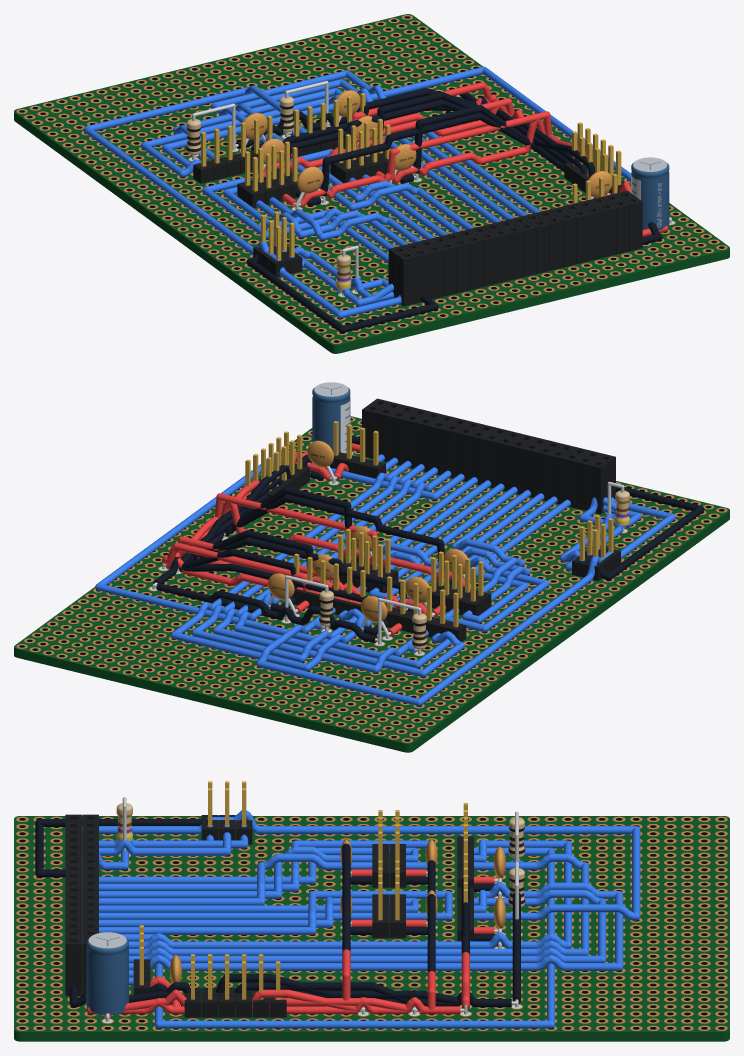
Rendered from perfboard-3d.glb.
3 views of the same model, one above another, from view 1: azimuth 30°, elevation 25°; view 2: azimuth 150°, elevation 25°; view 3: azimuth 270°, elevation 25° (orthographic). The views are drawn at different scales.
Visible parts, largest first — view 1: Board, Wires, J1 Female Header (2.54 mm) (2 × 18) MEGA: 1 D32, 2 D33, 3 D2, C2 Electrolytic Capacitor 220µF 25V (- at from, + at to), J2 Header Pins (3 × 2) D32, GND, D33, GND, LED_D34_AFTER_R1,, J9 Header Pins (1 × 4) D5, D6, D30, D30, J6 Header Pins (1 × 4) D3, D23, 5V, GND, J8 Header Pins (1 × 4) D19, D25, 5V, GND, J5 Header Pins (1 × 4) D2, D22, 5V, GND, J4 Header Pins (5 × 1) GND BUS FROM MEGA, J10 Header Pins (1 × 4) D9, D10, D31, D31, J3 Header Pins (6 × 1) 5V BUS FROM MEGA ONLY (+5 smaller); view 2: Board, Wires, J1 Female Header (2.54 mm) (2 × 18) MEGA: 1 D32, 2 D33, 3 D2, C2 Electrolytic Capacitor 220µF 25V (- at from, + at to), J2 Header Pins (3 × 2) D32, GND, D33, GND, LED_D34_AFTER_R1,, J5 Header Pins (1 × 4) D2, D22, 5V, GND, J9 Header Pins (1 × 4) D5, D6, D30, D30, J4 Header Pins (5 × 1) GND BUS FROM MEGA, J7 Header Pins (1 × 4) D18, D24, 5V, GND, J6 Header Pins (1 × 4) D3, D23, 5V, GND, J10 Header Pins (1 × 4) D9, D10, D31, D31, J8 Header Pins (1 × 4) D19, D25, 5V, GND (+10 smaller); view 3: Board, Wires, J1 Female Header (2.54 mm) (2 × 18) MEGA: 1 D32, 2 D33, 3 D2, C2 Electrolytic Capacitor 220µF 25V (- at from, + at to), J3 Header Pins (6 × 1) 5V BUS FROM MEGA ONLY, J2 Header Pins (3 × 2) D32, GND, D33, GND, LED_D34_AFTER_R1,, J7 Header Pins (1 × 4) D18, D24, 5V, GND, J8 Header Pins (1 × 4) D19, D25, 5V, GND, J5 Header Pins (1 × 4) D2, D22, 5V, GND, J6 Header Pins (1 × 4) D3, D23, 5V, GND, R2 Resistor 10kΩ D30 EN pull-down, R1 Resistor 470Ω (+4 smaller).
Boxes of the visible parts, bbox=[...] form: Board: bbox=[14, 14, 729, 353]; Wires: bbox=[83, 66, 668, 332]; J1 Female Header (2.54 mm) (2 × 18) MEGA: 1 D32, 2 D33, 3 D2: bbox=[388, 190, 642, 306]; C2 Electrolytic Capacitor 220µF 25V (- at from, + at to): bbox=[631, 157, 671, 230]; J2 Header Pins (3 × 2) D32, GND, D33, GND, LED_D34_AFTER_R1,: bbox=[253, 211, 302, 277]; J9 Header Pins (1 × 4) D5, D6, D30, D30: bbox=[193, 122, 253, 183]; J6 Header Pins (1 × 4) D3, D23, 5V, GND: bbox=[245, 147, 305, 208]; J8 Header Pins (1 × 4) D19, D25, 5V, GND: bbox=[338, 124, 390, 182]; J5 Header Pins (1 × 4) D2, D22, 5V, GND: bbox=[237, 141, 292, 201]; J4 Header Pins (5 × 1) GND BUS FROM MEGA: bbox=[564, 131, 610, 198]; J10 Header Pins (1 × 4) D9, D10, D31, D31: bbox=[291, 99, 345, 158]; J3 Header Pins (6 × 1) 5V BUS FROM MEGA ONLY: bbox=[577, 122, 623, 192]; Board: bbox=[14, 416, 729, 752]; Wires: bbox=[95, 436, 704, 706]; J1 Female Header (2.54 mm) (2 × 18) MEGA: 1 D32, 2 D33, 3 D2: bbox=[362, 398, 615, 514]; C2 Electrolytic Capacitor 220µF 25V (- at from, + at to): bbox=[309, 382, 353, 455]; J2 Header Pins (3 × 2) D32, GND, D33, GND, LED_D34_AFTER_R1,: bbox=[572, 515, 620, 580]; J5 Header Pins (1 × 4) D2, D22, 5V, GND: bbox=[423, 557, 483, 615]; J9 Header Pins (1 × 4) D5, D6, D30, D30: bbox=[406, 583, 466, 641]; J4 Header Pins (5 × 1) GND BUS FROM MEGA: bbox=[266, 434, 309, 498]; J7 Header Pins (1 × 4) D18, D24, 5V, GND: bbox=[330, 534, 388, 592]; J6 Header Pins (1 × 4) D3, D23, 5V, GND: bbox=[436, 551, 491, 611]; J10 Header Pins (1 × 4) D9, D10, D31, D31: bbox=[313, 560, 365, 614]; J8 Header Pins (1 × 4) D19, D25, 5V, GND: bbox=[343, 529, 398, 581]; Board: bbox=[14, 816, 729, 1041]; Wires: bbox=[35, 810, 640, 1028]; J1 Female Header (2.54 mm) (2 × 18) MEGA: 1 D32, 2 D33, 3 D2: bbox=[65, 814, 98, 995]; C2 Electrolytic Capacitor 220µF 25V (- at from, + at to): bbox=[86, 932, 128, 1021]; J3 Header Pins (6 × 1) 5V BUS FROM MEGA ONLY: bbox=[184, 961, 286, 1017]; J2 Header Pins (3 × 2) D32, GND, D33, GND, LED_D34_AFTER_R1,: bbox=[201, 781, 252, 844]; J7 Header Pins (1 × 4) D18, D24, 5V, GND: bbox=[389, 860, 405, 938]; J8 Header Pins (1 × 4) D19, D25, 5V, GND: bbox=[372, 860, 388, 938]; J5 Header Pins (1 × 4) D2, D22, 5V, GND: bbox=[389, 810, 405, 887]; J6 Header Pins (1 × 4) D3, D23, 5V, GND: bbox=[372, 810, 388, 887]; R2 Resistor 10kΩ D30 EN pull-down: bbox=[508, 811, 525, 862]; R1 Resistor 470Ω: bbox=[116, 797, 132, 850].
Bounding box in the file's own units: 0.0762 × 0.0142 × 0.1067.
Materials: 39 (17 with a texture image).
